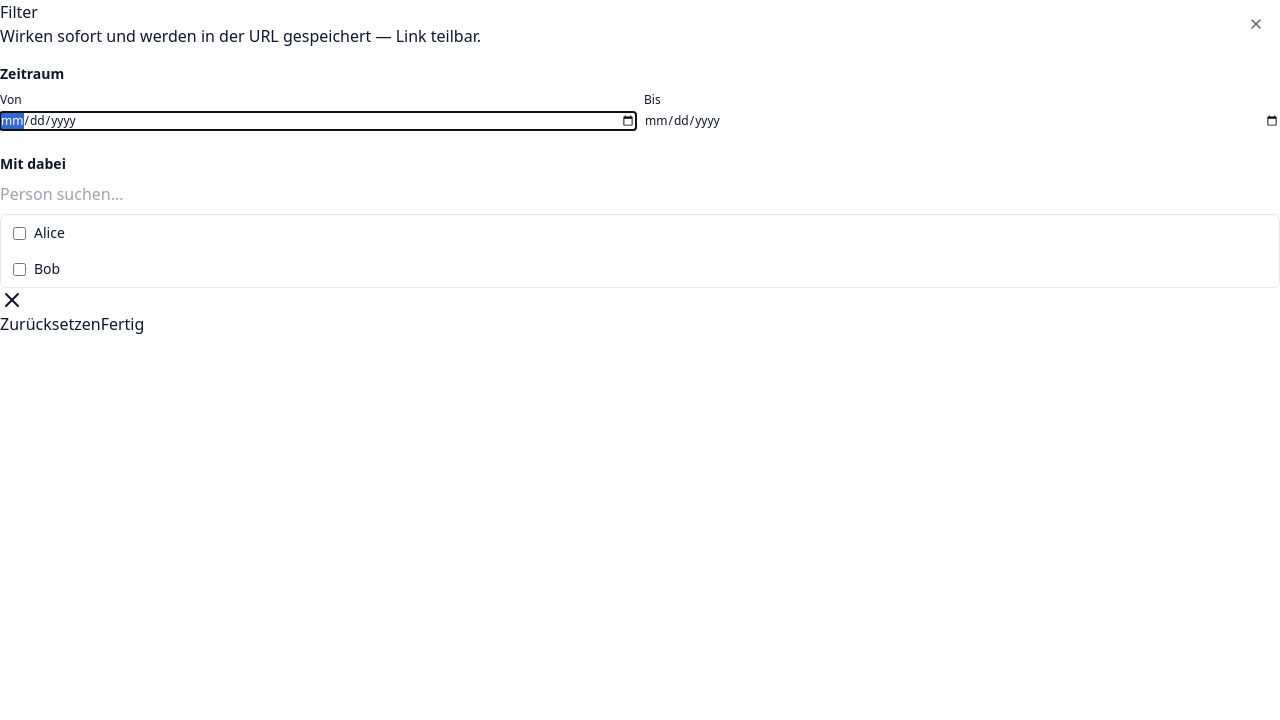
Test: MapFilterPanel (M6.4) › filters the participant list by the search query
Check: the text "Alice" is shown, box [34,223,65,242]
Type "bob" into the search field labelled "Person suchen" at (640, 194), box [0,182,1279,206]
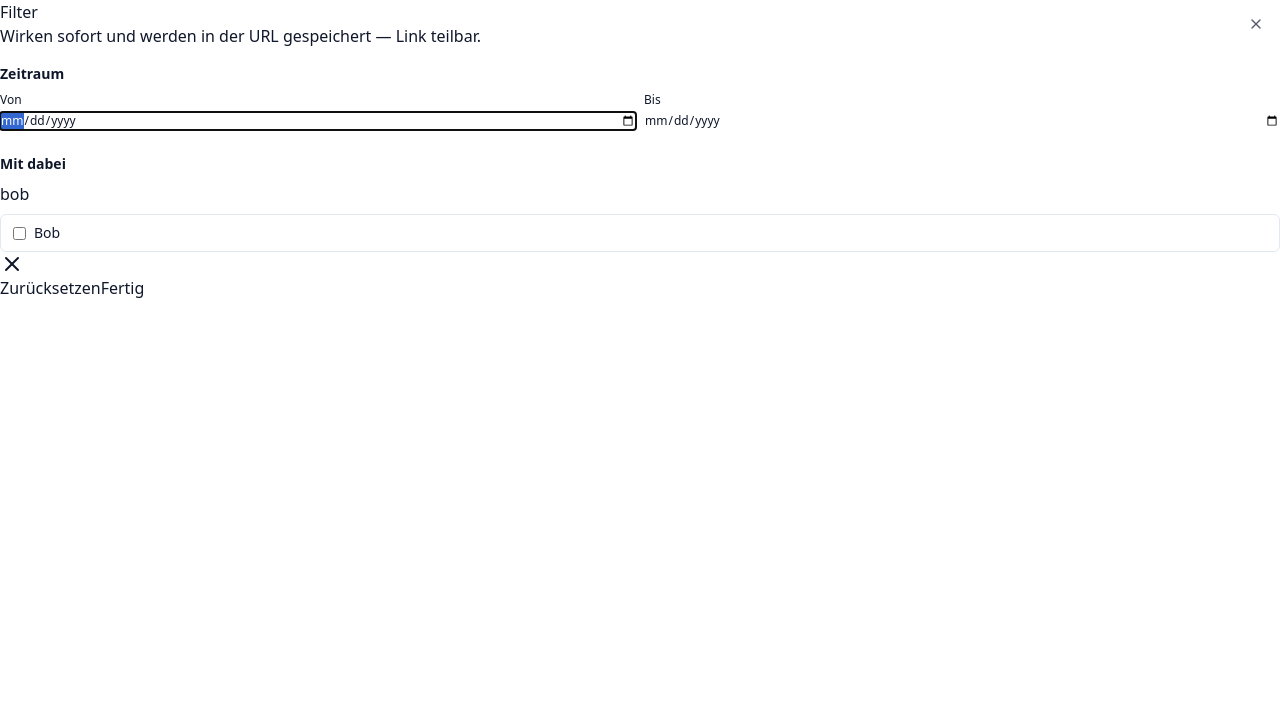
Check: the text "Bob" is shown, box [34,223,60,242]
Check: the text "Alice" is gone
